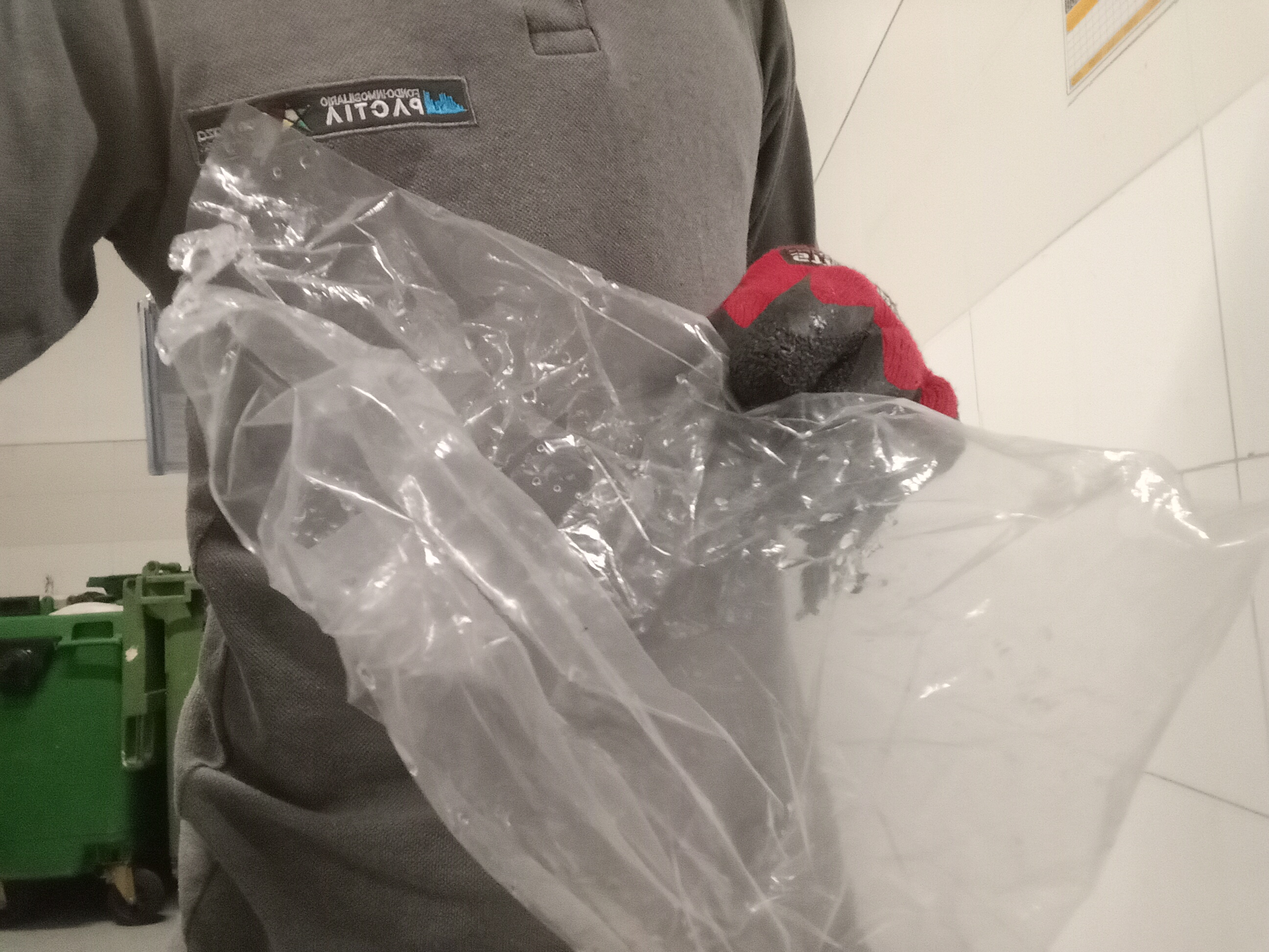Plastico: (154, 98, 1269, 949)
